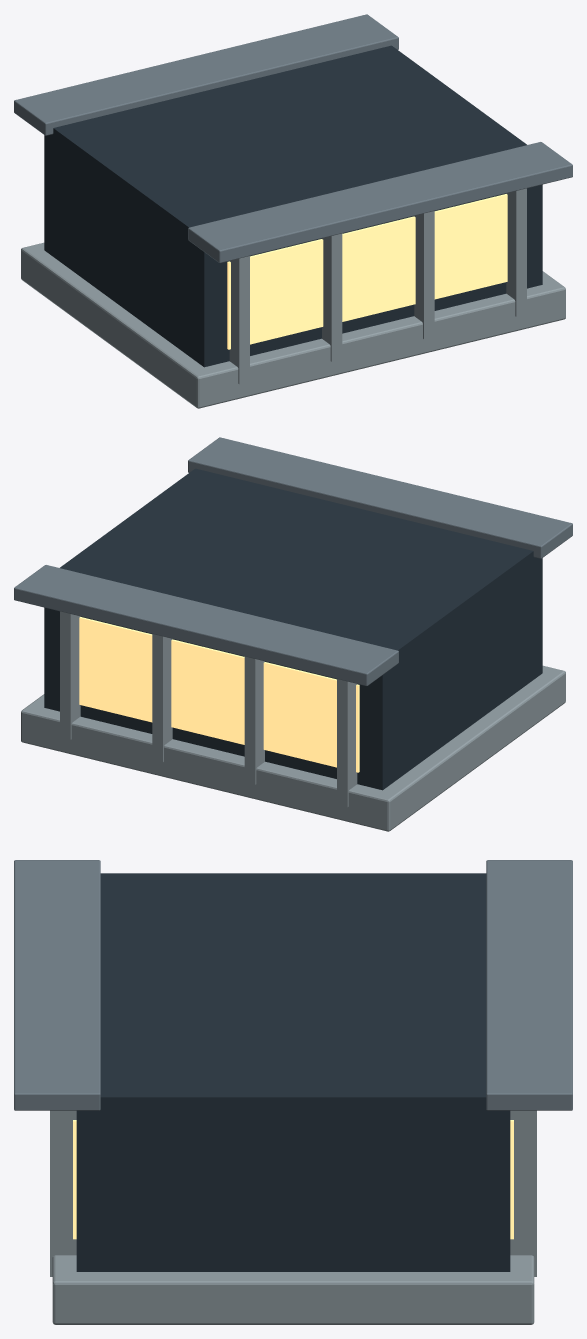
The model's file is vrx_city_podium_a_LOD0.fbx.
3 renders of one model, top to bottom at view 1: azimuth 30°, elevation 25°; view 2: azimuth 150°, elevation 25°; view 3: azimuth 270°, elevation 25°, orthographic. The views are drawn at different scales.
Visible parts, largest first — view 1: vrx_city_podium_a_LOD0; view 2: vrx_city_podium_a_LOD0; view 3: vrx_city_podium_a_LOD0.
Part boxes in pixels (x1,y1,x2,y2): vrx_city_podium_a_LOD0: (14,14,572,408); vrx_city_podium_a_LOD0: (14,437,572,831); vrx_city_podium_a_LOD0: (14,860,572,1324).
Bounding box in the file's own units: 24 × 10.4 × 23.2.
